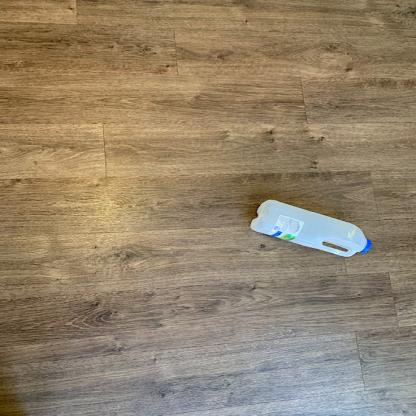trash: (245, 196, 373, 259)
